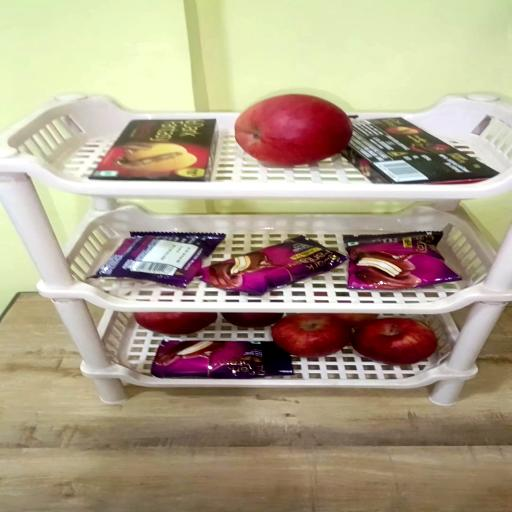Apple: (236, 93, 354, 166), (352, 318, 437, 365), (272, 314, 352, 358), (136, 312, 220, 336), (222, 313, 283, 328), (326, 314, 378, 331)
Choco Fills: (345, 116, 498, 184), (86, 117, 214, 180)
Choco Pie: (200, 236, 348, 297), (93, 233, 227, 289), (343, 232, 461, 292), (154, 340, 296, 378)
